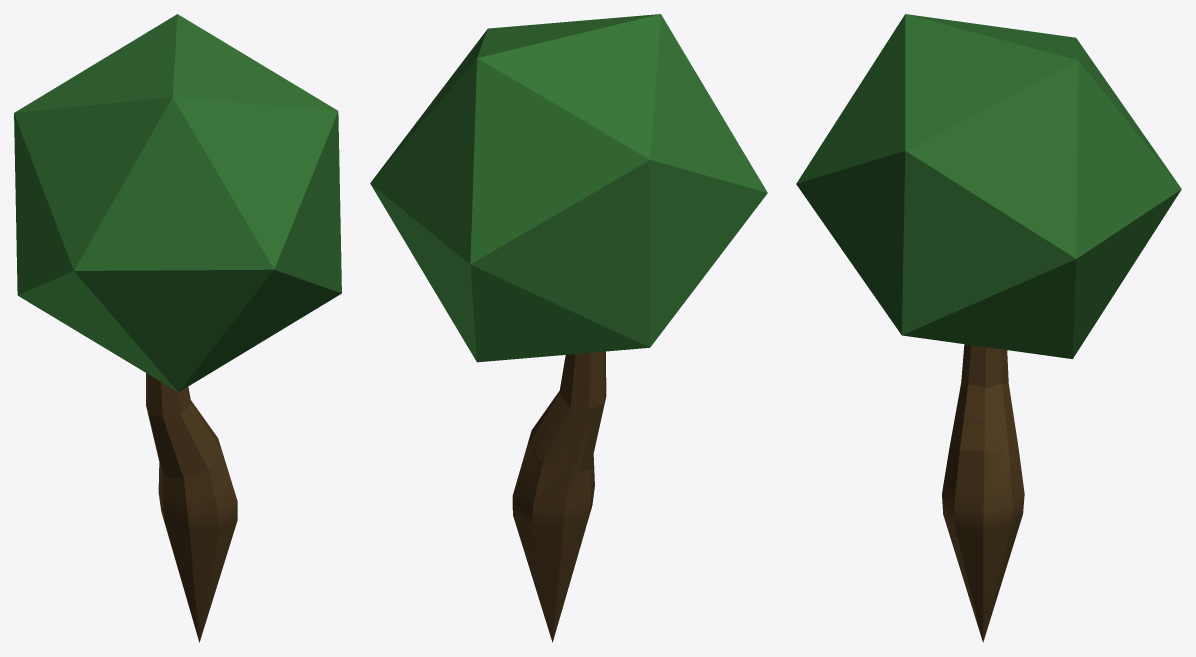
File: Tree02.fbx
3 renders of one model, left to right at view 1: azimuth 30°, elevation 25°; view 2: azimuth 150°, elevation 25°; view 3: azimuth 270°, elevation 25°, orthographic. The views are drawn at different scales.
Visible parts, largest first — view 1: Tree02; view 2: Tree02; view 3: Tree02.
Boxes of the visible parts, <box> form: Tree02: <box>14,14,341,642</box>; Tree02: <box>370,14,767,642</box>; Tree02: <box>796,14,1181,642</box>.
Size of the model in its own units: 577 by 1104 by 647.
